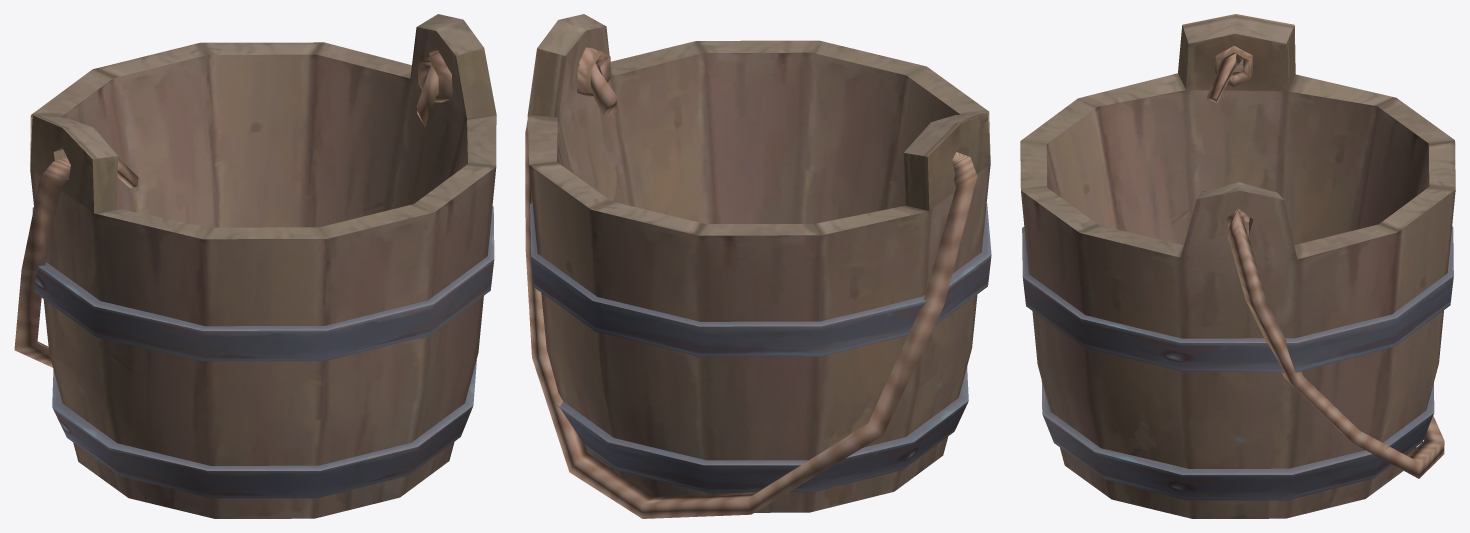
The model's file is Homeworld_Exterior_Common_Decoration_Bucket_01_Vo.fbx.
3 renders of one model, left to right at view 1: azimuth 30°, elevation 25°; view 2: azimuth 150°, elevation 25°; view 3: azimuth 270°, elevation 25°, orthographic. The views are drawn at different scales.
Parts seen in each view (by area): view 1: Area_MdProps_Woodenbasin01_Vo; view 2: Area_MdProps_Woodenbasin01_Vo; view 3: Area_MdProps_Woodenbasin01_Vo.
Boxes of the visible parts, x1,y1,x2,y2 form: Area_MdProps_Woodenbasin01_Vo: (14, 14, 496, 518); Area_MdProps_Woodenbasin01_Vo: (525, 14, 991, 518); Area_MdProps_Woodenbasin01_Vo: (1020, 14, 1455, 518).
Bounding box in the file's own units: 0.6098 × 0.4897 × 0.5489.
